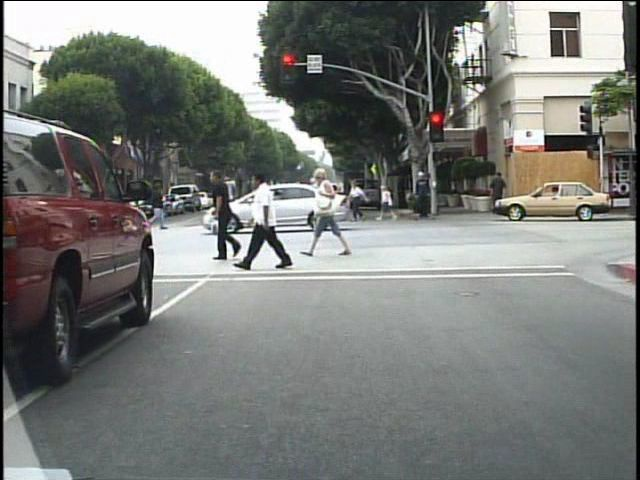person: (235, 174, 296, 275), (208, 166, 251, 266), (312, 165, 357, 258), (409, 164, 431, 223), (307, 173, 328, 224), (348, 176, 369, 224), (292, 178, 312, 225), (152, 179, 168, 232), (118, 180, 136, 227), (489, 169, 507, 215), (4, 191, 22, 237), (7, 198, 24, 236)
